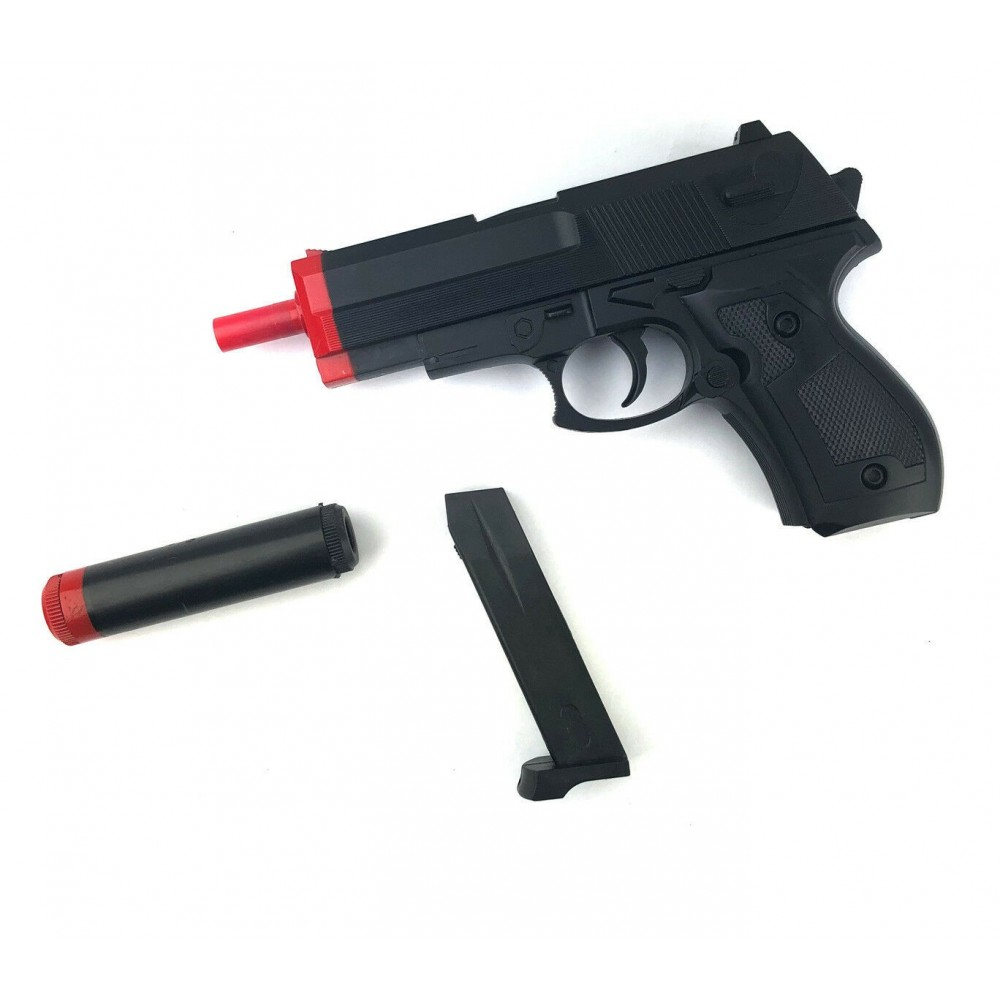Arma Falsa: (210, 121, 991, 537)
